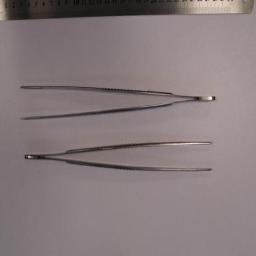DeBakey Dissector: (20, 86, 216, 120), (26, 142, 212, 172)
